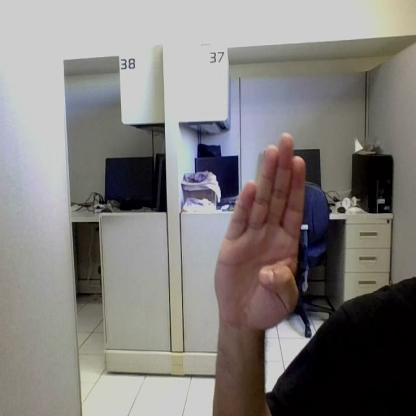B: (214, 133, 303, 320)
